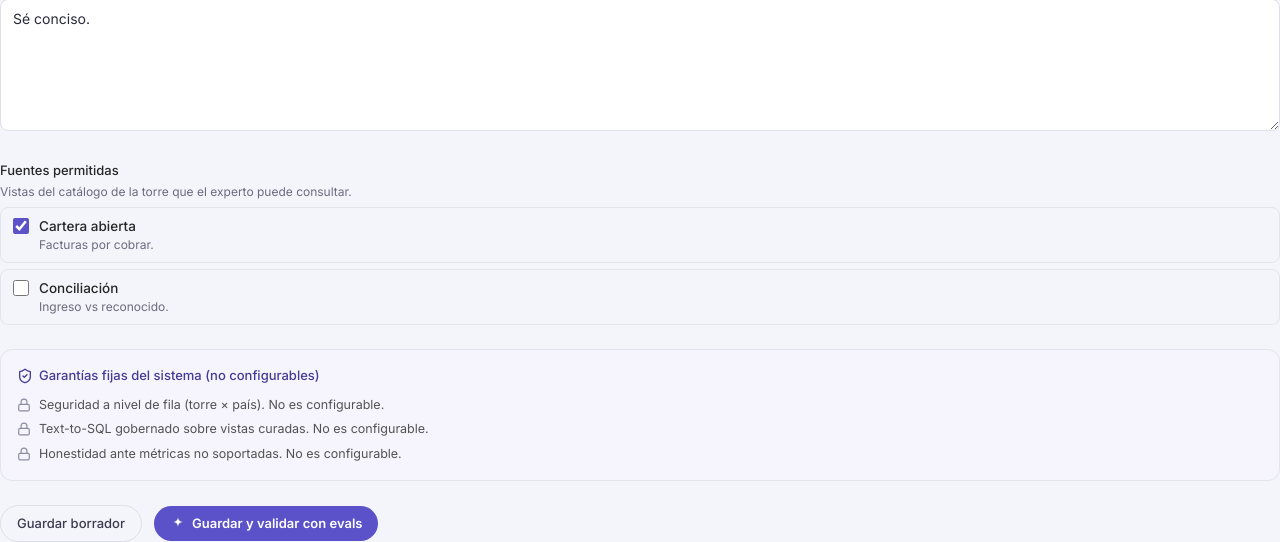
Scenario: ExpertoConfig › al validar muestra el resultado de los evals y NO activa si caen
(page scrolled)
Click the button "Guardar y validar con evals" at (266, 524), box [154,506,378,541]
(page scrolled)
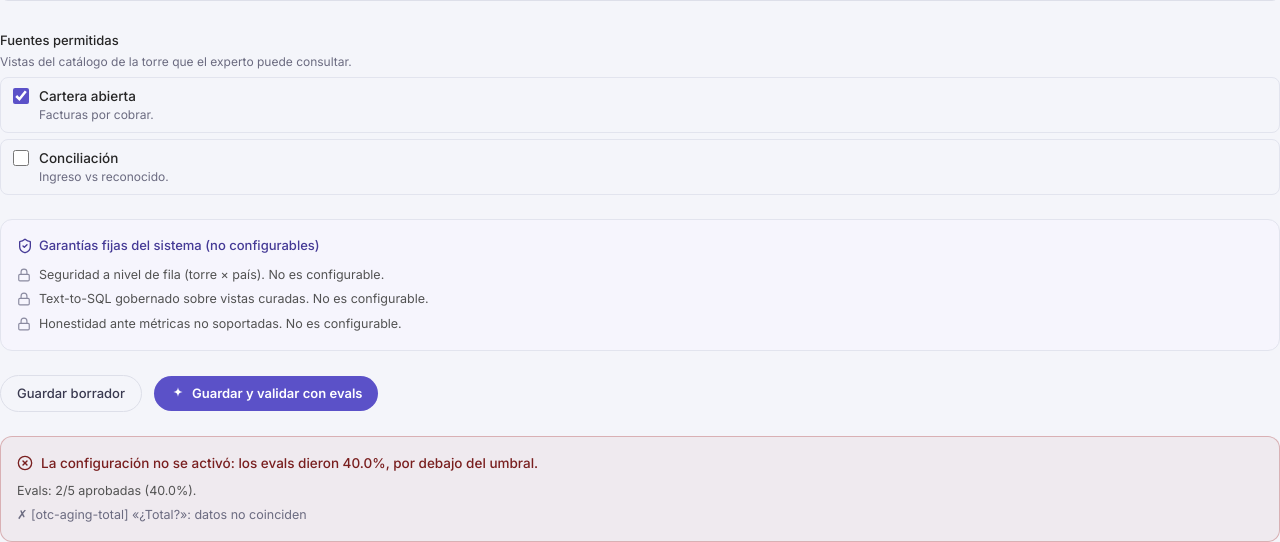
Now the text "no se activó" is shown, box [41,455,538,471]
Now the text "2/5 aprobadas (40.0%)" is shown, box [17,482,307,522]
